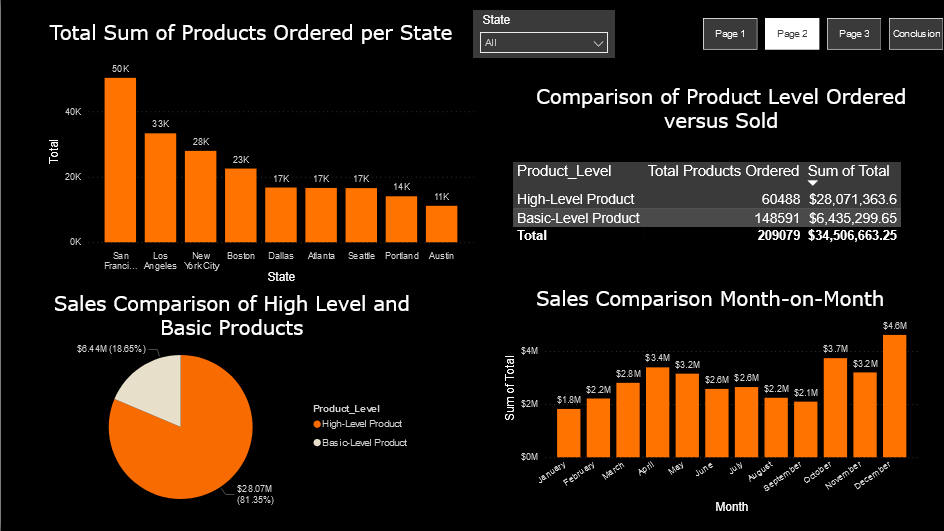

The page's visual inventory and layout, read from the dashboard file:
{"tool":"powerbi","page":{"name":"Page 2","canvas":[1280,720],"ordinal":1},"visuals":[{"type":"clusteredColumnChart","fields":{"Category":["sales_2019.State"],"Y":["Sum(sales_2019.Quantity_Ordered)"]},"box":[59.5,68,586.8,321.7],"z":0},{"type":"textbox","box":[59.5,21.3,558.4,87.9],"z":1000},{"type":"pieChart","fields":{"Category":["sales_2019.Product_Level"],"Y":["Sum(sales_2019.Total)"]},"box":[59.5,438,506,282],"z":2000},{"type":"textbox","box":[39.7,389.8,547.1,83.6],"z":3000},{"type":"tableEx","fields":{"Values":["sales_2019.Product_Level","Sum(sales_2019.Quantity_Ordered)","Sum(sales_2019.Total)"]},"box":[688.8,214,571.2,146],"z":4000},{"type":"textbox","box":[693.1,109.1,566.9,78],"z":5000},{"type":"clusteredColumnChart","fields":{"Category":["sales_2019.Order_Date.Variation.Date Hierarchy.Month"],"Y":["Sum(sales_2019.Total)"]},"box":[677.5,419.5,571.2,282],"z":6000},{"type":"textbox","box":[677.5,382.7,566.9,49.6],"z":7000},{"type":"pageNavigator","box":[952.4,24.1,327.4,43.9],"z":8000},{"type":"slicer","fields":{"Values":["sales_2019.State"]},"box":[640.6,14.2,192.8,65.2],"z":9000}]}

Visuals, with their boxes in screenshot pixels (x1, y1, x2, y2), scaled from the page's 1280x720 canvas onto the 944x531 screenshot:
clusteredColumnChart - sales_2019.State x Sum(sales_2019.Quantity_Ordered): box(44, 50, 477, 287)
textbox: box(44, 16, 456, 81)
pieChart - sales_2019.Product_Level x Sum(sales_2019.Total): box(44, 323, 417, 530)
textbox: box(29, 287, 433, 349)
tableEx - sales_2019.Product_Level x Sum(sales_2019.Quantity_Ordered): box(508, 158, 929, 266)
textbox: box(511, 80, 929, 138)
clusteredColumnChart - sales_2019.Order_Date.Variation.Date Hierarchy.Month x Sum(sales_2019.Total): box(500, 309, 921, 517)
textbox: box(500, 282, 918, 319)
pageNavigator: box(702, 18, 943, 50)
slicer - sales_2019.State: box(472, 10, 615, 59)
